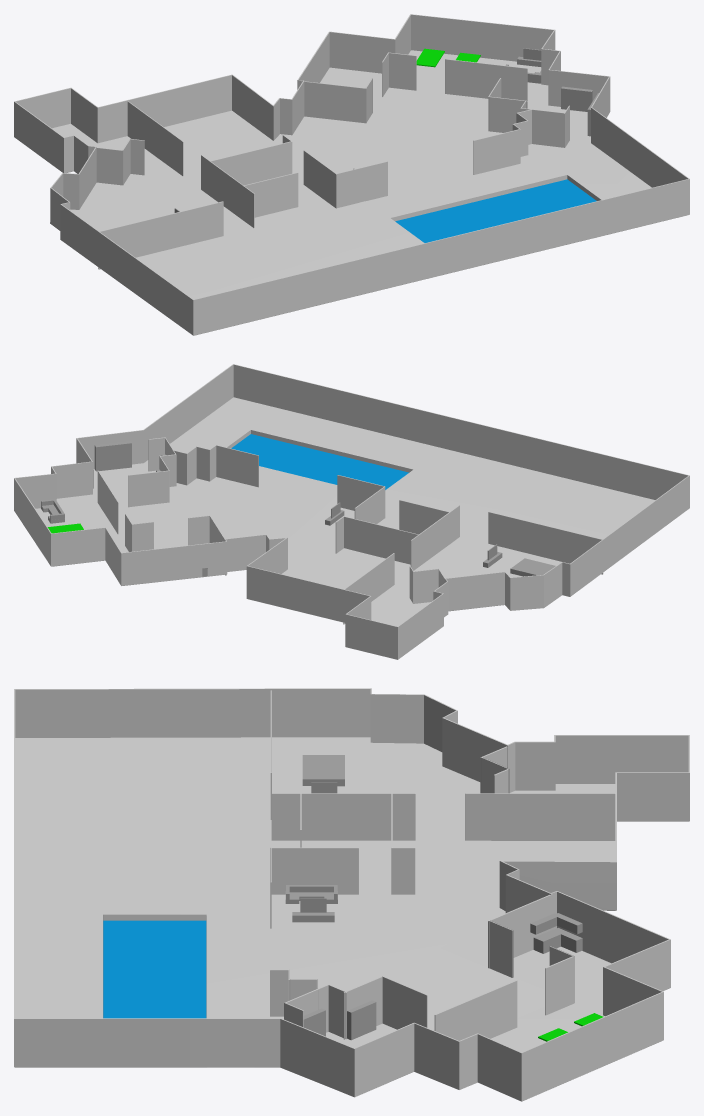
The model's file is Villa_02.fbx.
3 renders of one model, top to bottom at view 1: azimuth 30°, elevation 25°; view 2: azimuth 150°, elevation 25°; view 3: azimuth 270°, elevation 25°, orthographic. The views are drawn at different scales.
Parts seen in each view (by area): view 1: outer_walls, pPlane1, pCube21, pCube7, pCube27, pCube20, pCube25, pCube22, pCube18, pCube19, pCube15, pCube24 (+6 smaller); view 2: outer_walls, pPlane1, pCube21, pCube20, pCube22, pCube15, pCube8, pCube25, pCube19, pCube62, pCube18, pCube24 (+8 smaller); view 3: outer_walls, pPlane2, pCube25, pCube22, pCube24, pCube7, pPlane1, pCube8, pCube27, pCube6, pCube57, pCube26 (+6 smaller).
Part boxes in pixels (bbox=[...]): outer_walls: bbox=[14, 14, 689, 335]; pPlane1: bbox=[395, 179, 596, 242]; pCube21: bbox=[98, 201, 223, 269]; pCube7: bbox=[445, 59, 527, 100]; pCube27: bbox=[300, 81, 366, 123]; pCube20: bbox=[210, 141, 291, 185]; pCube25: bbox=[127, 101, 183, 175]; pCube22: bbox=[201, 155, 254, 227]; pCube18: bbox=[337, 161, 387, 207]; pCube19: bbox=[242, 172, 298, 220]; pCube15: bbox=[473, 129, 520, 174]; pCube24: bbox=[303, 150, 336, 208]; outer_walls: bbox=[14, 364, 689, 659]; pPlane1: bbox=[231, 434, 408, 489]; pCube21: bbox=[488, 512, 603, 574]; pCube20: bbox=[344, 516, 418, 564]; pCube22: bbox=[410, 505, 459, 570]; pCube15: bbox=[216, 445, 258, 487]; pCube8: bbox=[128, 470, 169, 507]; pCube25: bbox=[343, 553, 394, 624]; pCube19: bbox=[399, 500, 450, 543]; pCube62: bbox=[94, 441, 131, 471]; pCube18: bbox=[337, 475, 384, 510]; pCube24: bbox=[354, 486, 385, 524]; outer_walls: bbox=[14, 688, 689, 1101]; pPlane2: bbox=[103, 920, 206, 1018]; pCube25: bbox=[465, 793, 615, 840]; pCube22: bbox=[271, 793, 415, 840]; pCube24: bbox=[270, 847, 358, 894]; pCube7: bbox=[434, 980, 517, 1040]; pPlane1: bbox=[103, 955, 206, 1018]; pCube8: bbox=[382, 976, 427, 1029]; pCube27: bbox=[488, 894, 553, 968]; pCube6: bbox=[545, 956, 573, 1015]; pCube57: bbox=[302, 755, 344, 786]; pCube26: bbox=[489, 920, 513, 977].
Size of the model in its own units: 60.64 by 9.1 by 47.45.
